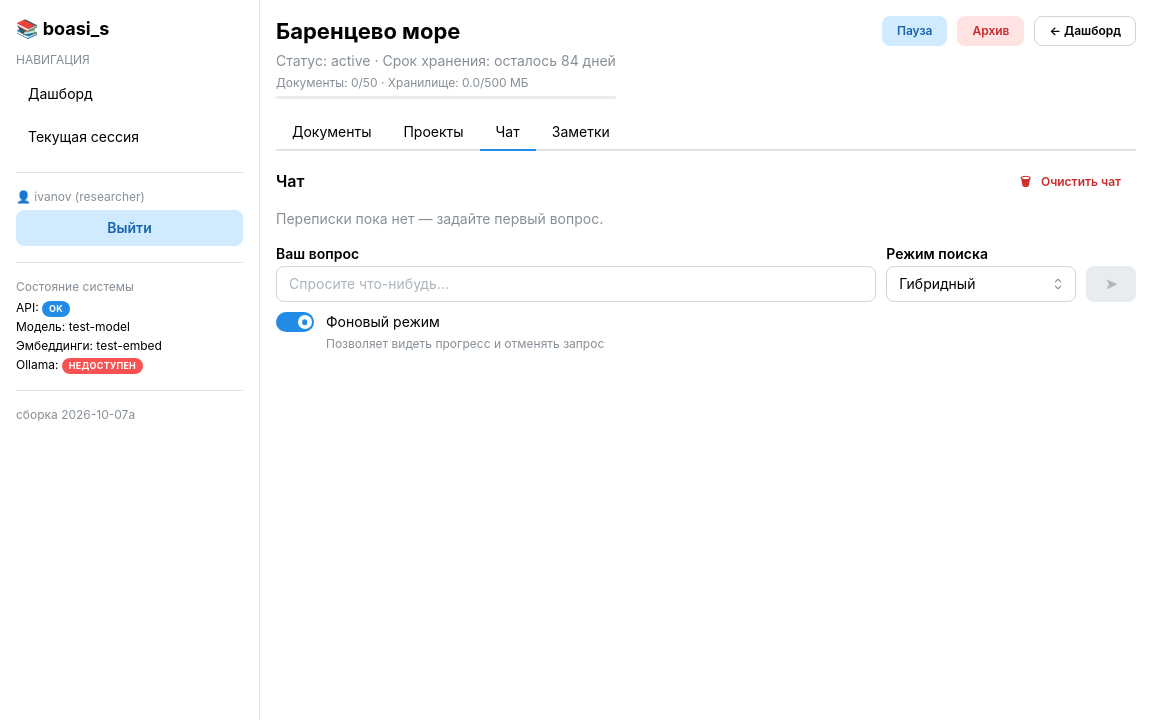
Test: чат: синхронный режим и очистка › синхронный ответ рисуется локально и уходит из пузыря после истории
The width and height of the screenshot is (1152, 720).
# Mantine Switch: доступная роль switch с именем подписи
Click the switch labelled "Фоновый режим Позволяет видеть прогресс и отменять запрос" at {"x": 440, "y": 332}, box [276, 312, 604, 351]
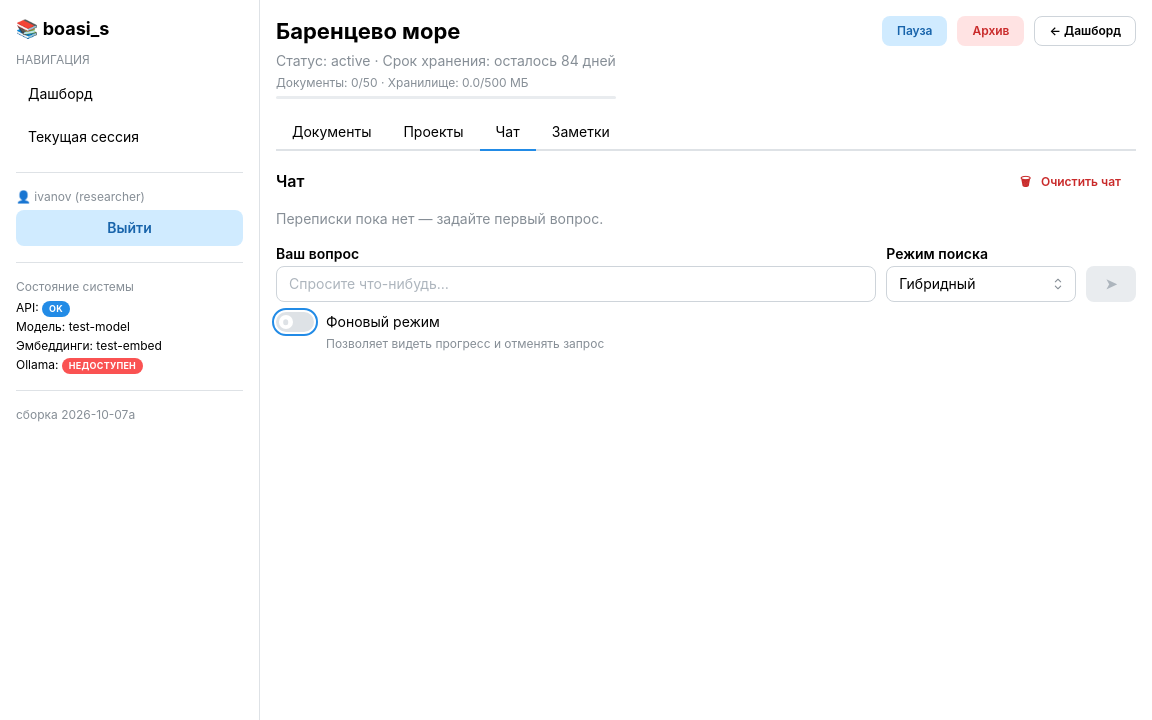
Type "быстрый вопрос" into the field labelled "Ваш вопрос" at {"x": 576, "y": 284}, box [276, 266, 876, 302]
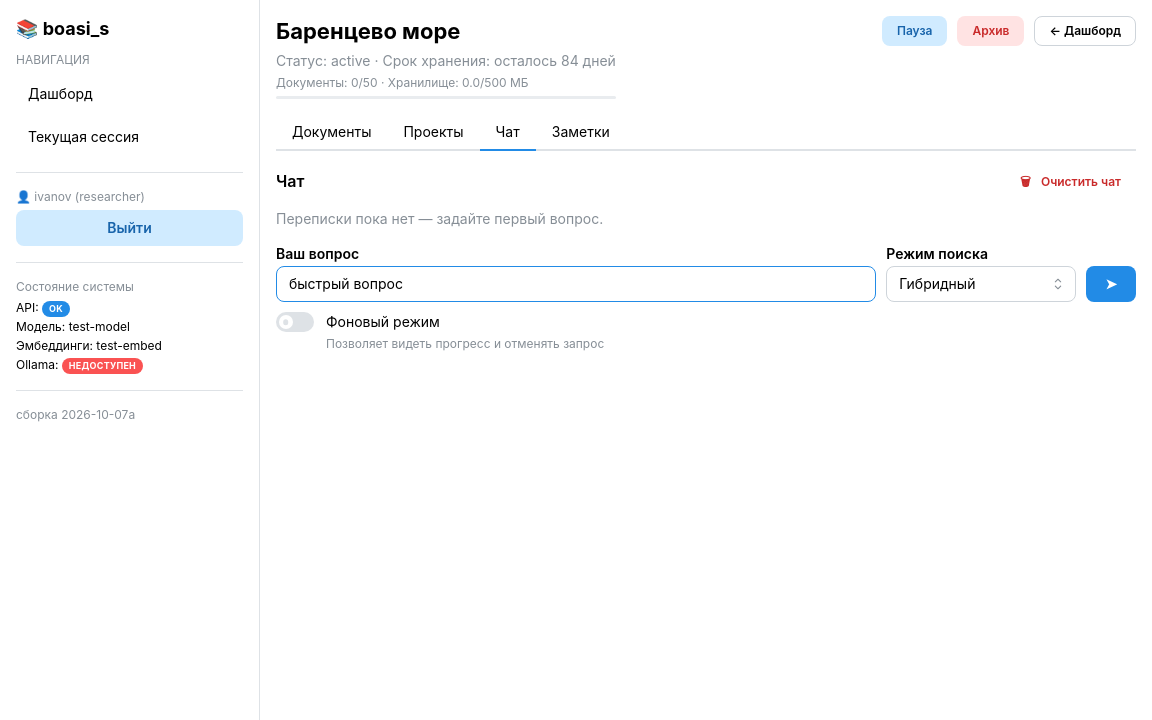
Click the button "➤" at {"x": 1111, "y": 284}, box [1086, 266, 1136, 302]
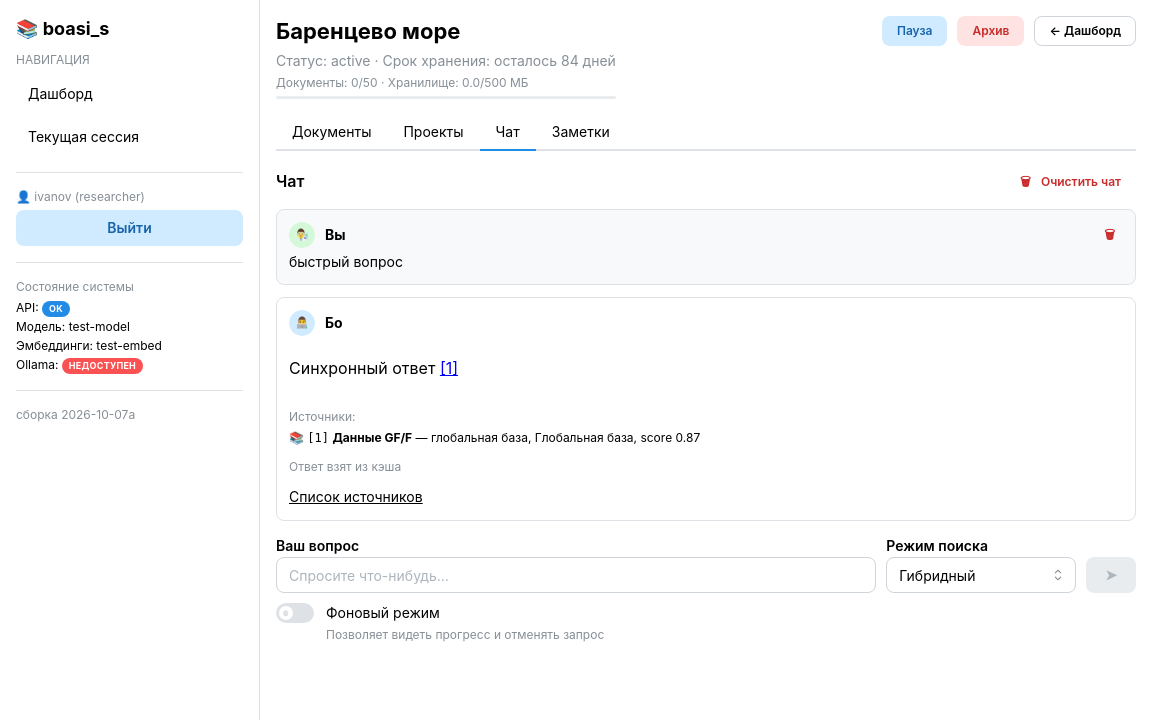
expect the text "Синхронный ответ [1]" is shown: met, box [289, 358, 458, 378]
expect the text "Ответ взят из кэша" is shown: met, box [289, 459, 401, 474]
expect the button named "убрать вопрос и ответ" is shown: met, box [1096, 224, 1123, 246]
